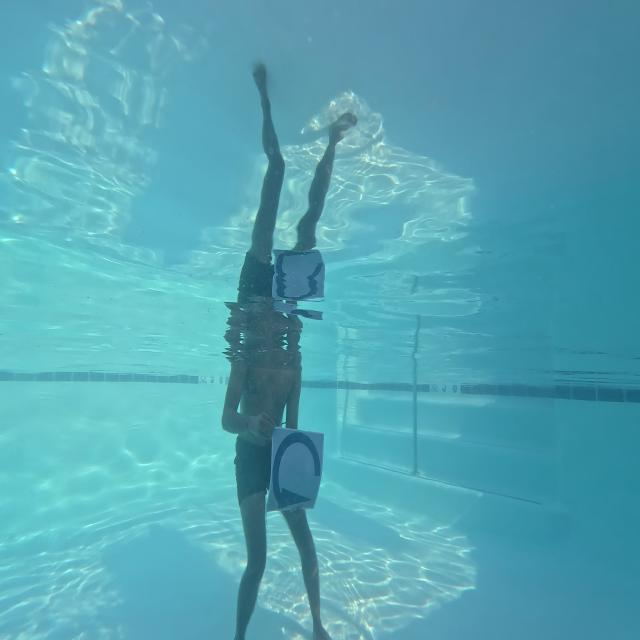blue_side: (263, 409, 334, 524)
